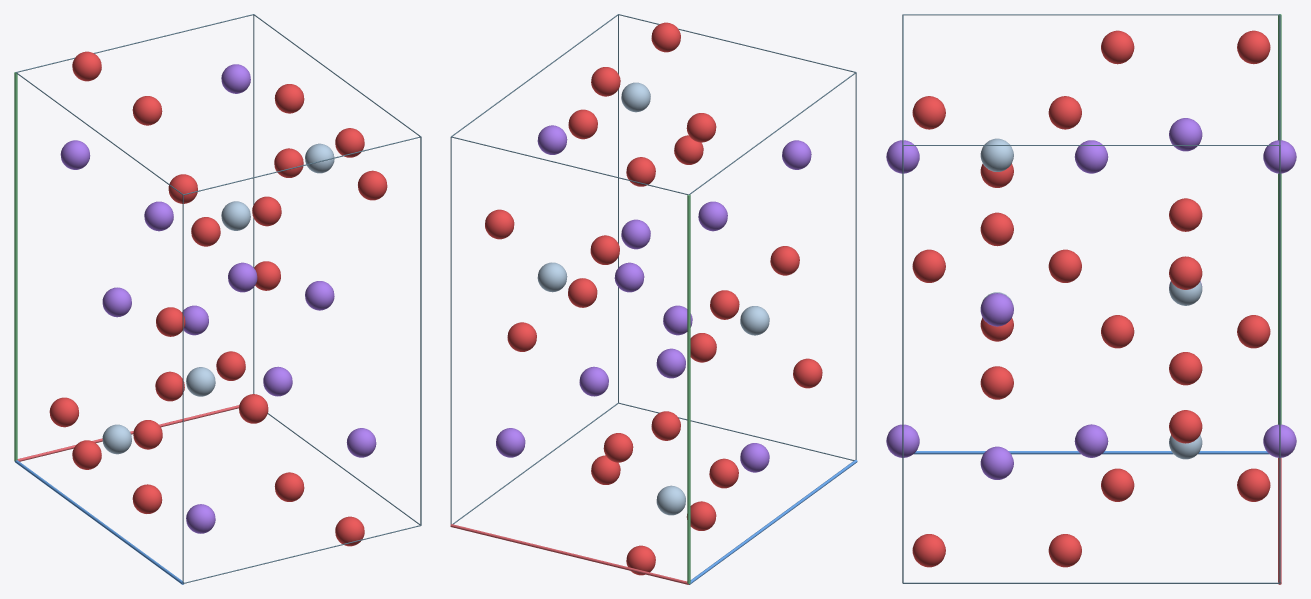
Rendered from chat-sodium-chromate.glb.
3 renders of one model, left to right at view 1: azimuth 30°, elevation 25°; view 2: azimuth 150°, elevation 25°; view 3: azimuth 270°, elevation 25°, orthographic. The views are drawn at different scales.
Parts seen in each view (by area): view 1: O2 · O · 1 (×12), Ô mạng và các trục a, b, c, O1 · O · 1 (×8), Na2 · Na · 1 (×6), Na1 · Na · 1 (×4), Cr1 · Cr · 1 (×4); view 2: O2 · O · 1 (×12), Ô mạng và các trục a, b, c, O1 · O · 1 (×8), Na2 · Na · 1 (×6), Na1 · Na · 1 (×4), Cr1 · Cr · 1 (×4); view 3: O2 · O · 1 (×12), Ô mạng và các trục a, b, c, O1 · O · 1 (×7), Na2 · Na · 1 (×6), Na1 · Na · 1 (×3), Cr1 · Cr · 1 (×3).
Part boxes in pixels (bbox=[...]): O2 · O · 1 (×12): bbox=[72, 51, 364, 546]; Ô mạng và các trục a, b, c: bbox=[14, 14, 421, 584]; O1 · O · 1 (×8): bbox=[49, 148, 387, 449]; Na2 · Na · 1 (×6): bbox=[60, 140, 376, 457]; Na1 · Na · 1 (×4): bbox=[102, 64, 334, 533]; Cr1 · Cr · 1 (×4): bbox=[102, 143, 334, 454]; O2 · O · 1 (×12): bbox=[507, 22, 799, 575]; Ô mạng và các trục a, b, c: bbox=[450, 14, 857, 584]; O1 · O · 1 (×8): bbox=[485, 109, 822, 488]; Na2 · Na · 1 (×6): bbox=[496, 140, 811, 457]; Na1 · Na · 1 (×4): bbox=[537, 125, 769, 472]; Cr1 · Cr · 1 (×4): bbox=[537, 82, 769, 515]; O2 · O · 1 (×12): bbox=[912, 30, 1270, 567]; Ô mạng và các trục a, b, c: bbox=[902, 14, 1281, 584]; O1 · O · 1 (×7): bbox=[980, 163, 1202, 443]; Na2 · Na · 1 (×6): bbox=[886, 140, 1296, 457]; Na1 · Na · 1 (×3): bbox=[980, 118, 1202, 479]; Cr1 · Cr · 1 (×3): bbox=[980, 138, 1202, 459].
Bounding box in the file's own units: 6.22 × 9.87 × 7.84.
